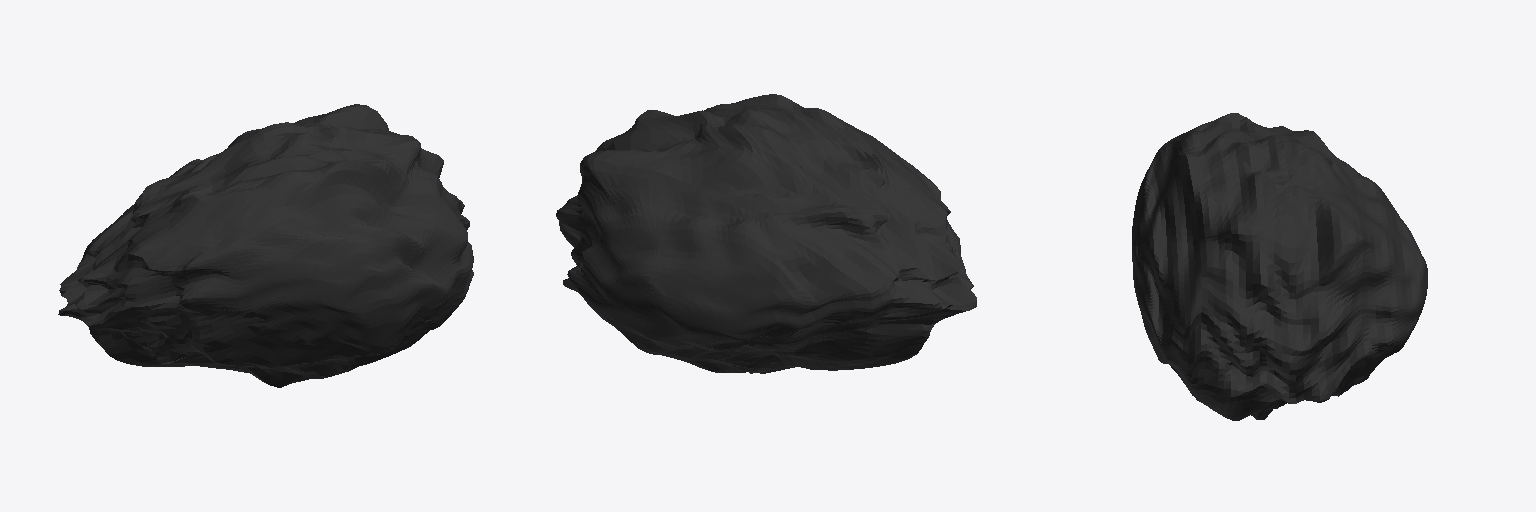
The model's file is asteroidOBJ.obj.
3 renders of one model, left to right at view 1: azimuth 30°, elevation 25°; view 2: azimuth 150°, elevation 25°; view 3: azimuth 270°, elevation 25°, orthographic.
Parts seen in each view (by area): view 1: Sphere01; view 2: Sphere01; view 3: Sphere01.
Part boxes in pixels (x1,y1,x2,y2): Sphere01: (58, 104, 473, 387); Sphere01: (556, 94, 976, 373); Sphere01: (1132, 113, 1427, 420).
Bounding box in the file's own units: 1.65 × 0.98 × 1.04.